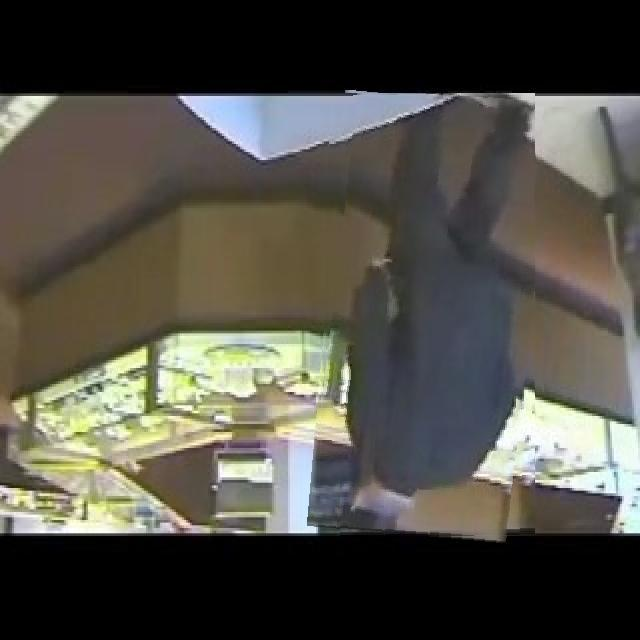normal: (317, 93, 535, 539)
